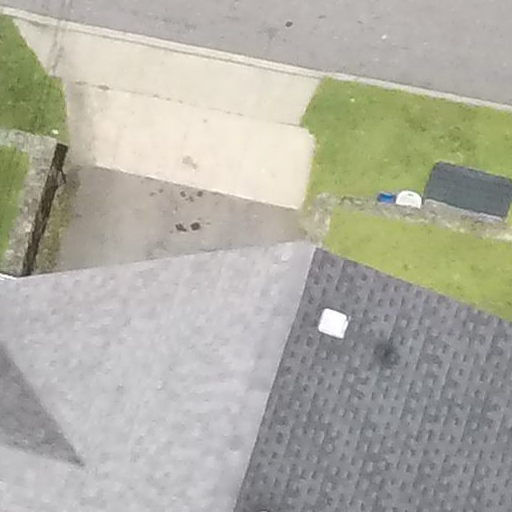container: (398, 191, 421, 218), (374, 186, 394, 208)
